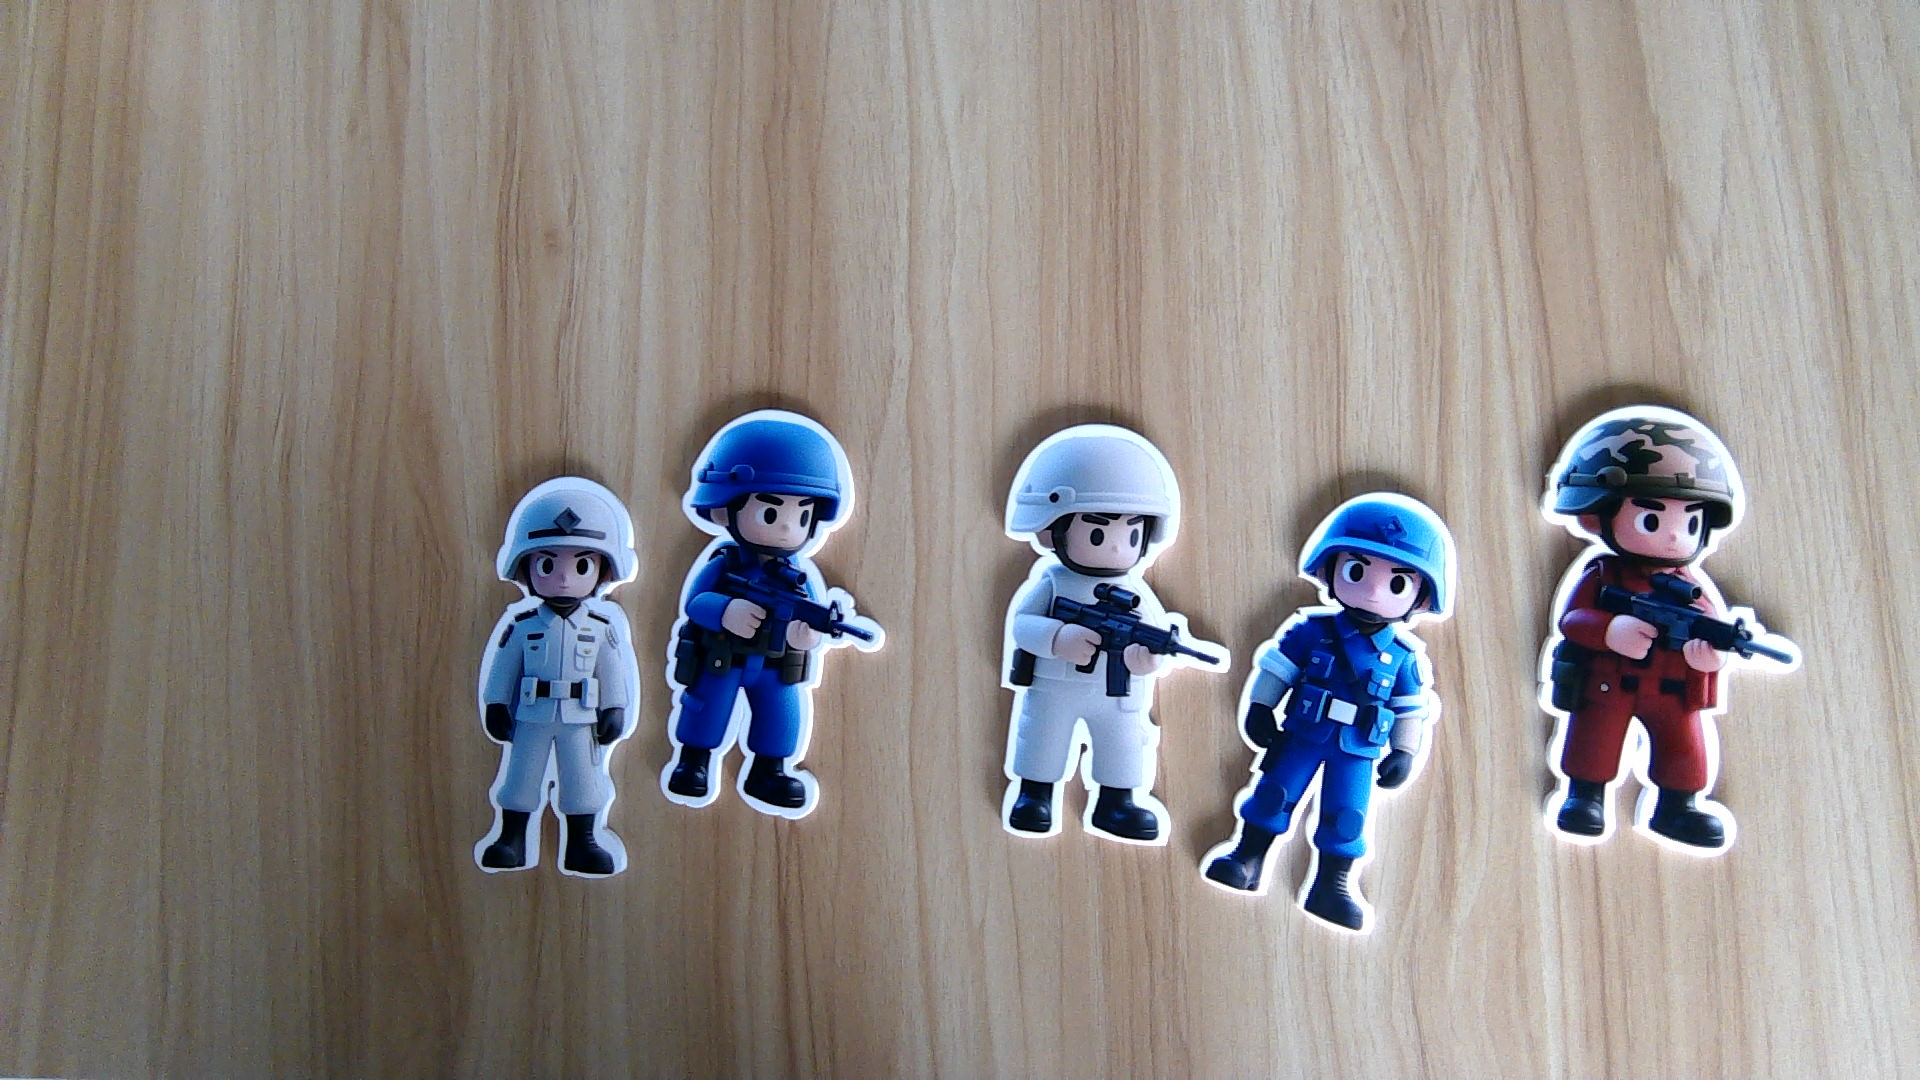人质: (989, 574, 1205, 843), (469, 600, 641, 887)
敌人1: (1523, 564, 1805, 870)
敌人2: (1196, 615, 1448, 936), (662, 555, 881, 822)
